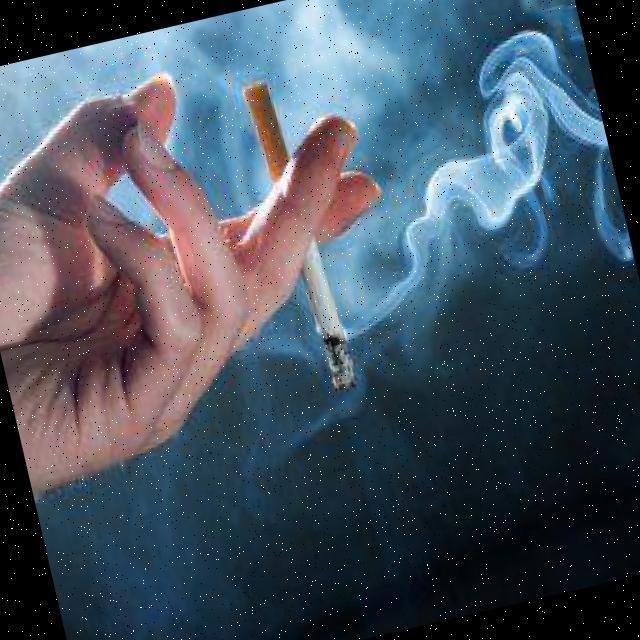cigarette: (233, 59, 374, 417)
